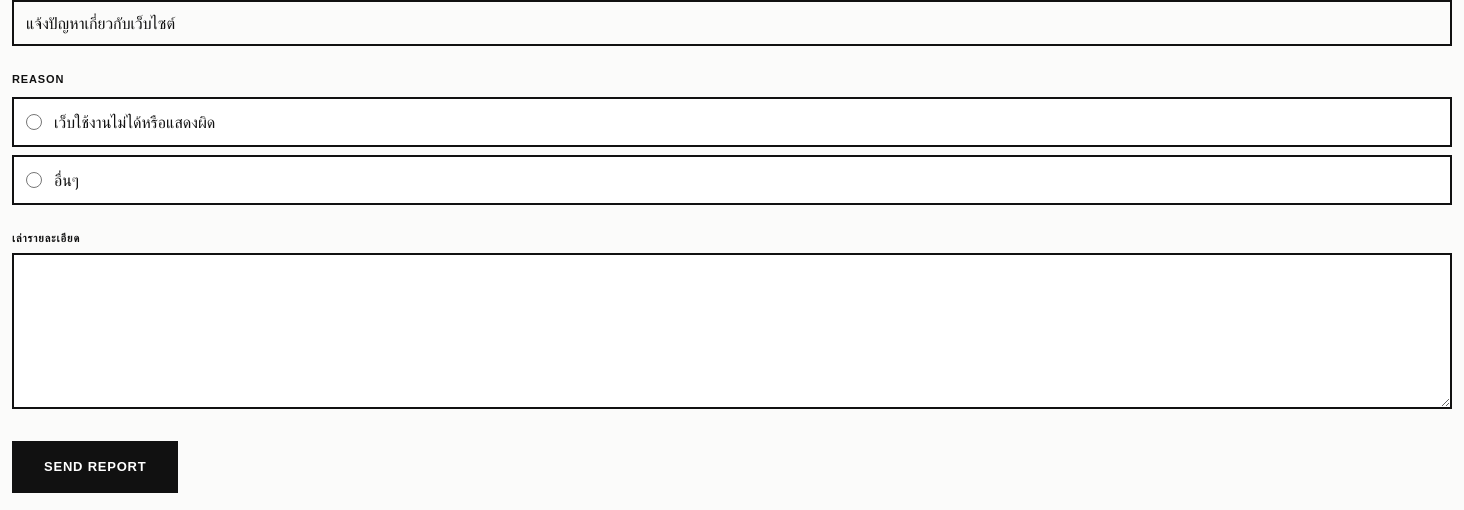
ReportForm › thanks the reporter once sent
The width and height of the screenshot is (1464, 510).
Step 1. Click the radio button labelled "อื่นๆ" → click(34, 180), box [26,172,42,188]
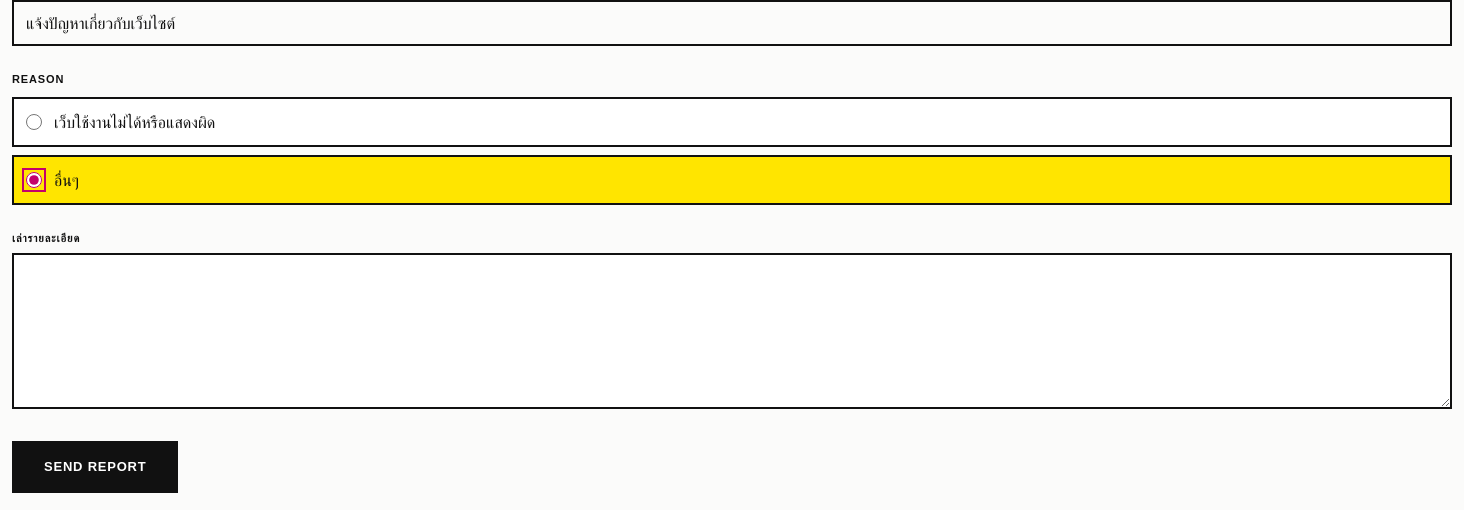
Step 2. Type "ปุ่มค้นหากดไม่ได้ในมือถือ" into the text box labelled "เล่ารายละเอียด" → (732, 332), box [12,254,1452,410]
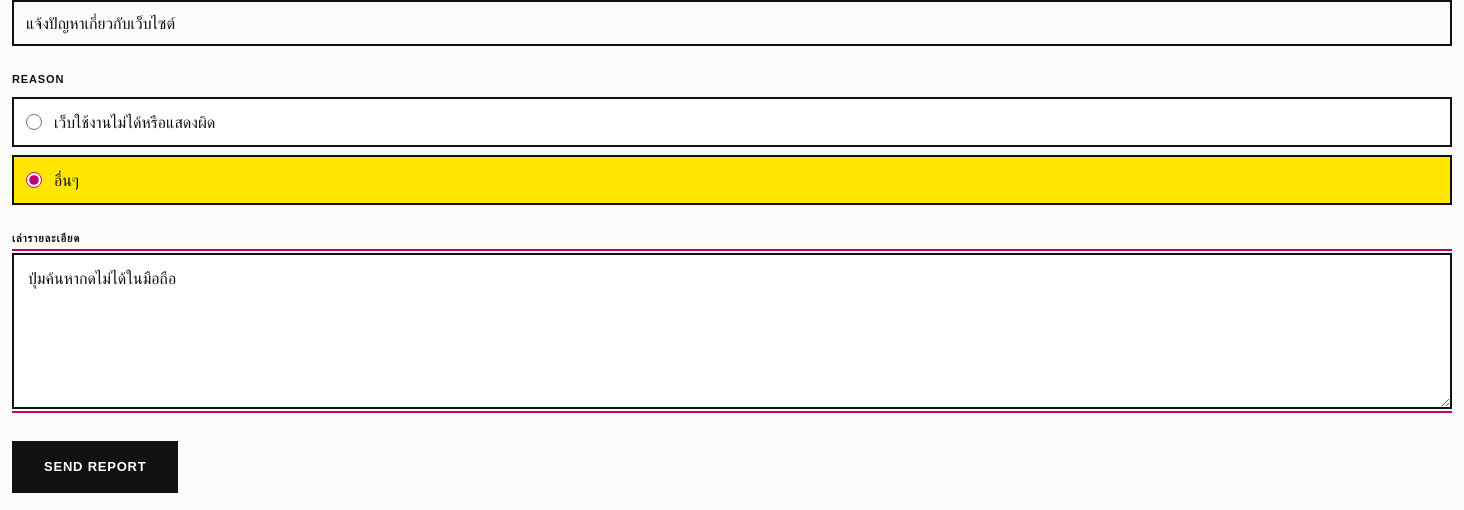
Step 3. Click the button "SEND REPORT" → click(95, 467), box [12,441,178,493]
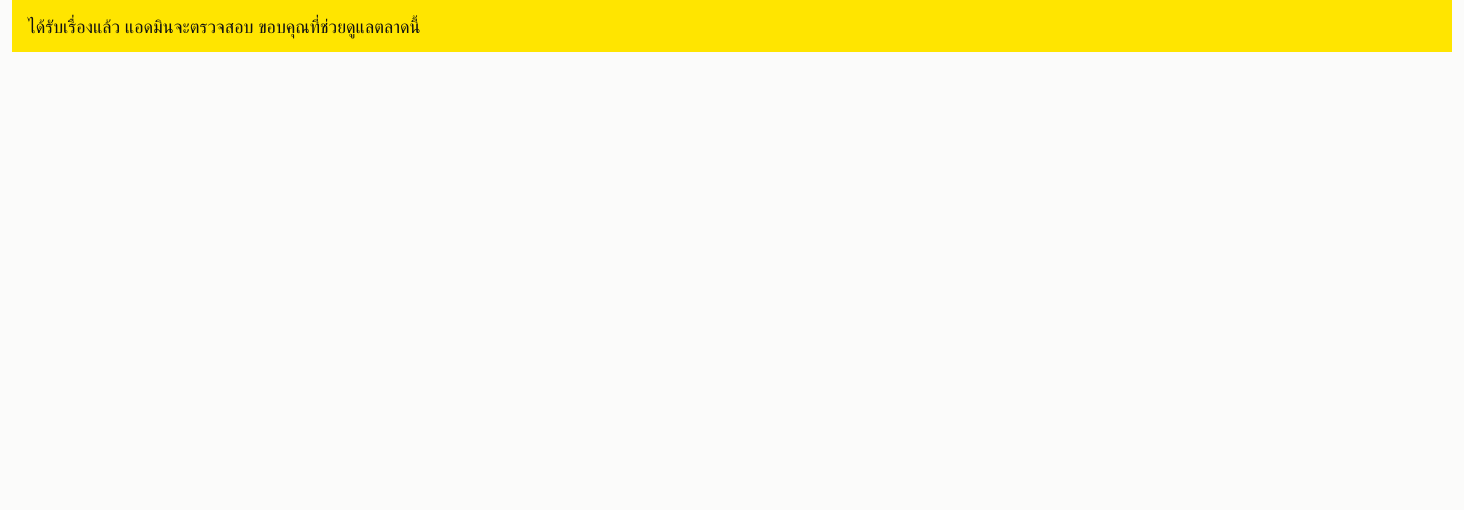
Now the message shows "ได้รับเรื่องแล้ว", box [28,14,420,38]
